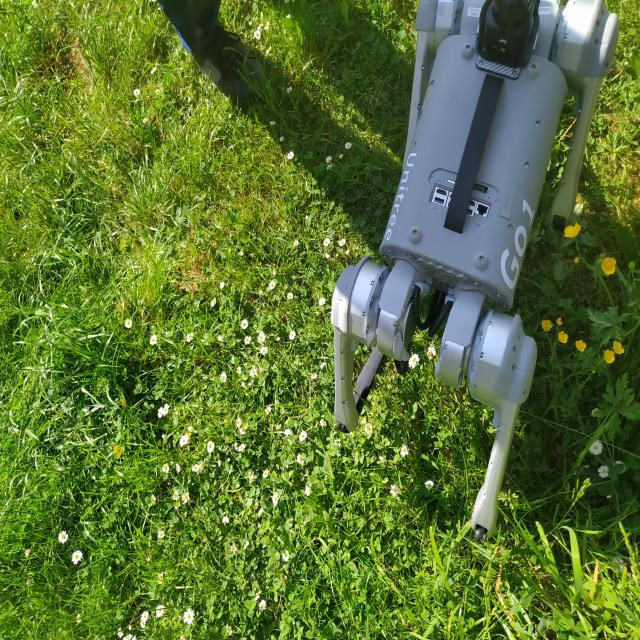unitree-go1-robot: (330, 2, 618, 523)
